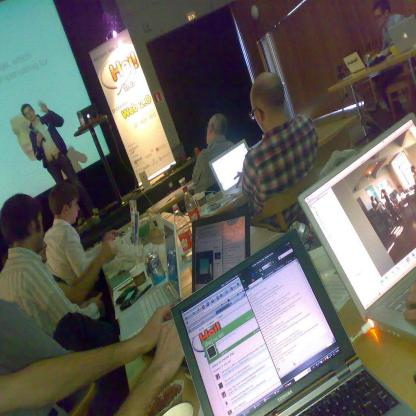board: (178, 238, 410, 416), (297, 110, 416, 344), (140, 208, 250, 366), (118, 218, 181, 340), (209, 138, 249, 197), (386, 14, 416, 55), (173, 203, 193, 260), (146, 249, 166, 287), (183, 185, 200, 227), (77, 100, 100, 129), (121, 199, 135, 245), (342, 50, 367, 72), (134, 209, 139, 245)
